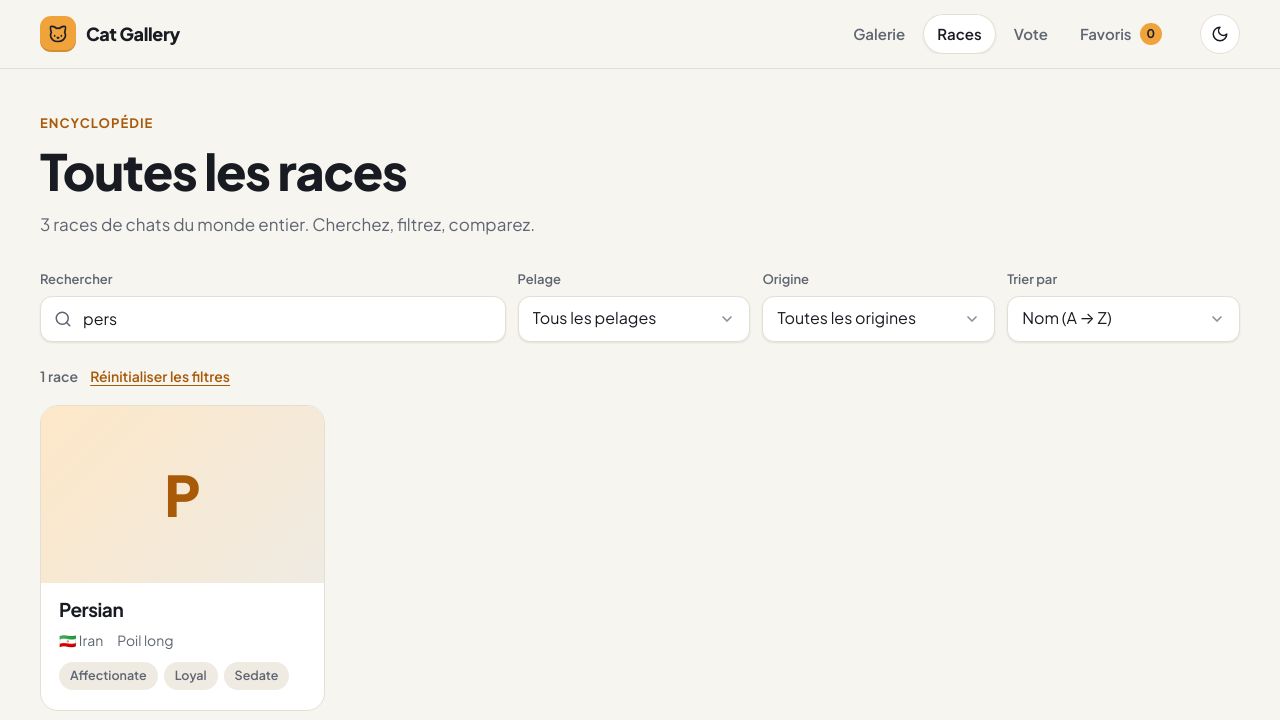
Test case: breeds › clears the search when navigating back to the plain breeds page
Check: the text "1 race" is shown, box [40,366,230,387]
Check: the search field holds "pers", box [40,296,506,342]
Click the link "Races": (959, 34) [923,14,996,54]
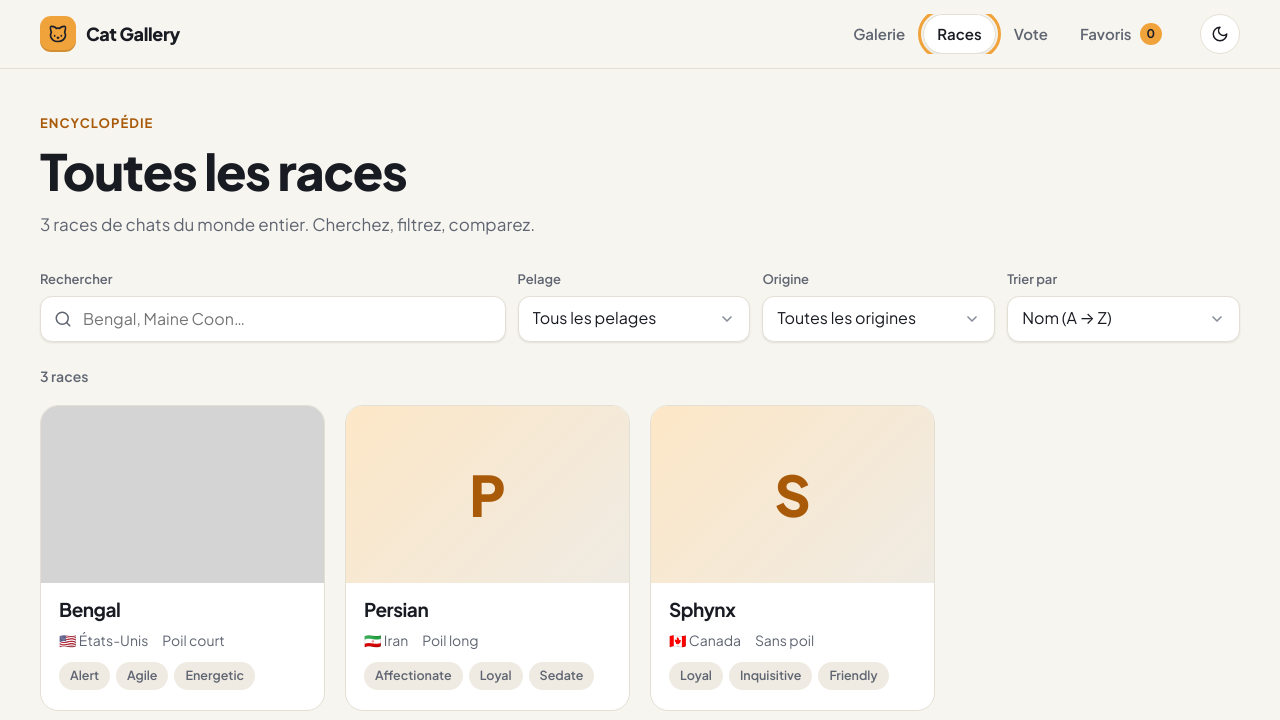
Check: the search field is empty, box [40,296,506,342]
Check: the text "3 races" is shown, box [40,367,88,385]
